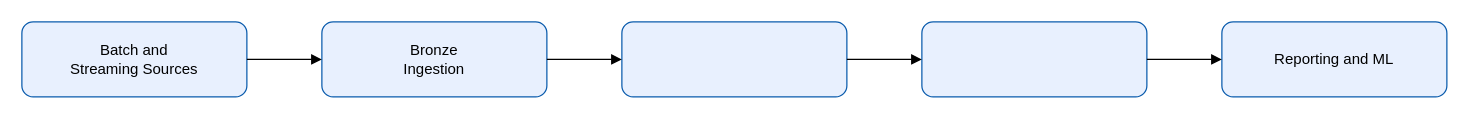
Image size: 1469x119. Some labels were removed from this diagram. Here are the shapes that lost their labels. From the top down, the centre of each, then its label:
At point 734,59: "Silver Validation".
At point 1034,59: "Gold Products".
